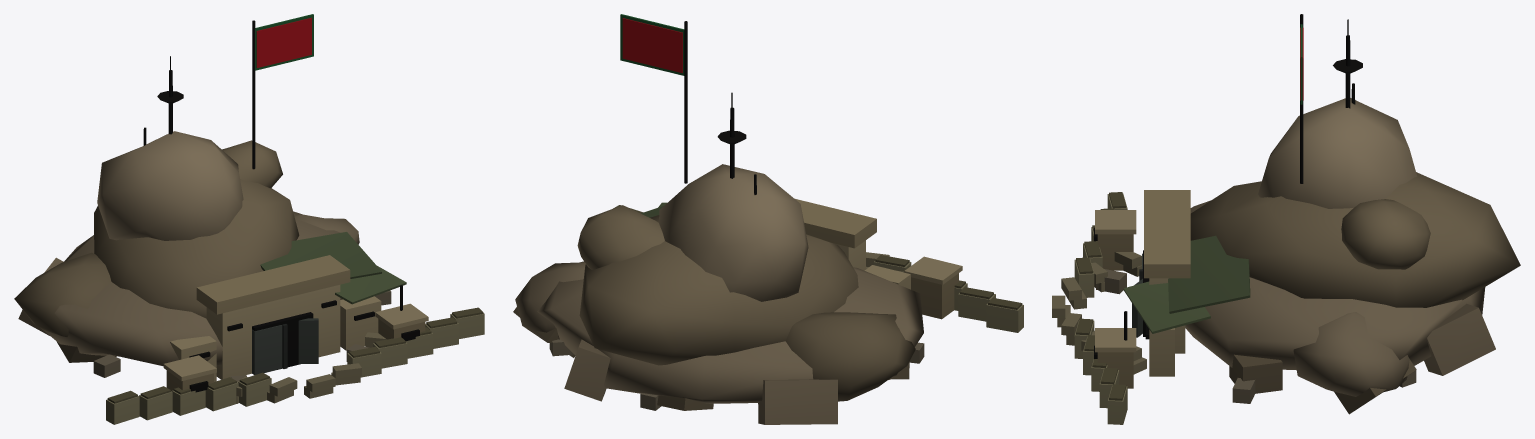
Rendered from m_fort_7ce2571b.glb.
3 renders of one model, left to right at view 1: azimuth 30°, elevation 25°; view 2: azimuth 150°, elevation 25°; view 3: azimuth 270°, elevation 25°, orthographic. The views are drawn at different scales.
Visible parts, largest first — view 1: mesh; view 2: mesh; view 3: mesh.
Boxes of the visible parts, <box> form: mesh: <box>14,14,484,424</box>; mesh: <box>513,14,1023,424</box>; mesh: <box>1052,14,1520,424</box>.
Size of the model in its own units: 95.31 by 73.95 by 90.7.
